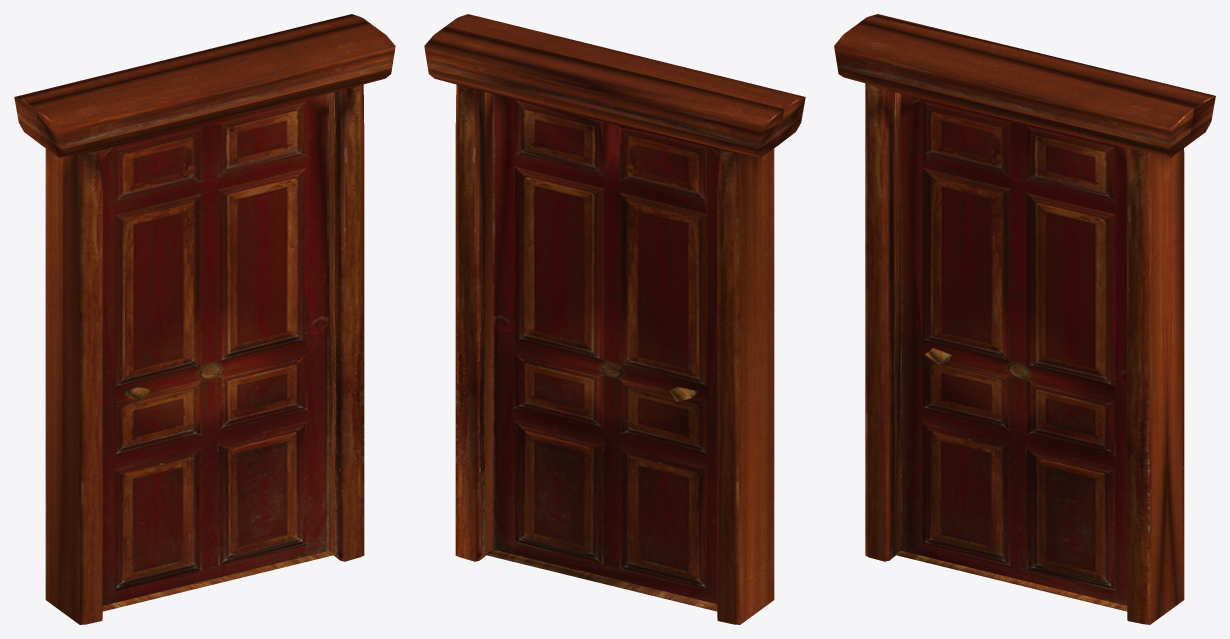
The model's file is door.glb.
3 views of the same model, side by side, from view 1: azimuth 30°, elevation 25°; view 2: azimuth 150°, elevation 25°; view 3: azimuth 330°, elevation 25° (orthographic).
Visible parts, largest first — view 1: door, frame; view 2: door, frame; view 3: door, frame.
Part boxes in pixels (bbox=[...]): door: bbox=[99, 93, 328, 605]; frame: bbox=[14, 14, 395, 624]; door: bbox=[492, 94, 720, 603]; frame: bbox=[424, 14, 805, 624]; door: bbox=[900, 94, 1127, 605]; frame: bbox=[834, 14, 1215, 624].
Size of the model in its own units: 1.85 by 2.66 by 0.4139.
1 material, 1 textured.
